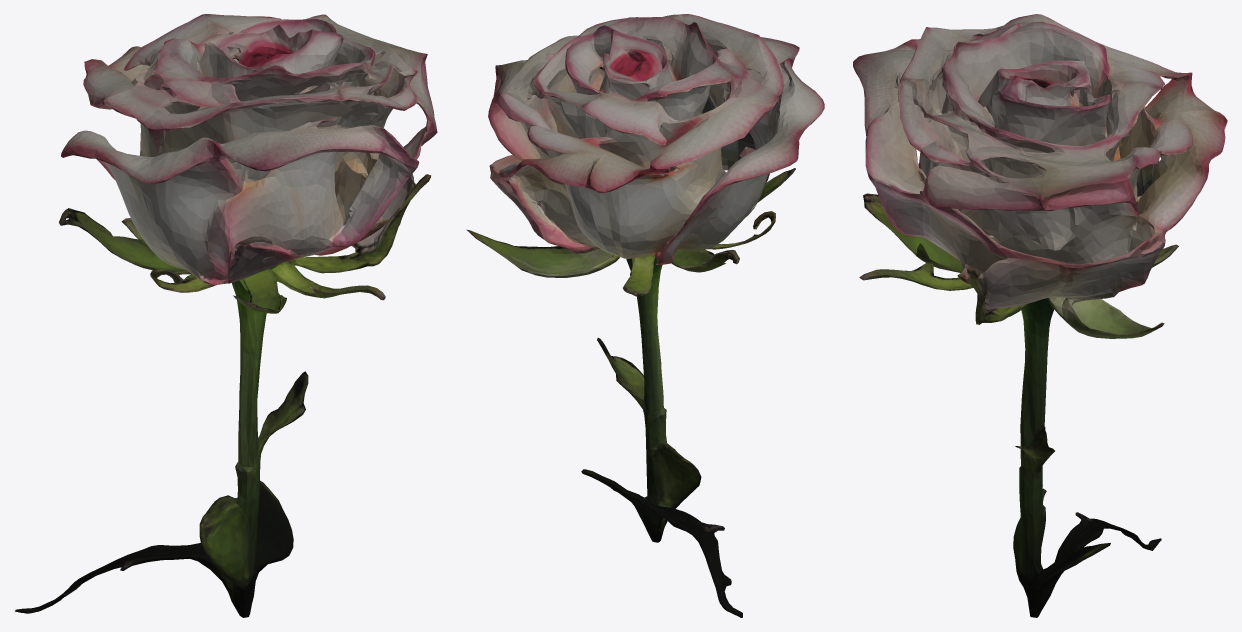
The picture shows the model from 3 angles, left to right: view 1: azimuth 30°, elevation 25°; view 2: azimuth 150°, elevation 25°; view 3: azimuth 270°, elevation 25°; orthographic projection. The views are drawn at different scales.
Visible parts, largest first — view 1: world; view 2: world; view 3: world.
Boxes of the visible parts, x1=… form: world: x1=15, y1=14, x2=437, y2=617; world: x1=466, y1=14, x2=824, y2=617; world: x1=853, y1=14, x2=1227, y2=617.
Bounding box in the file's own units: 0.6389 × 0.9904 × 0.5869.
1 material, 1 textured.
